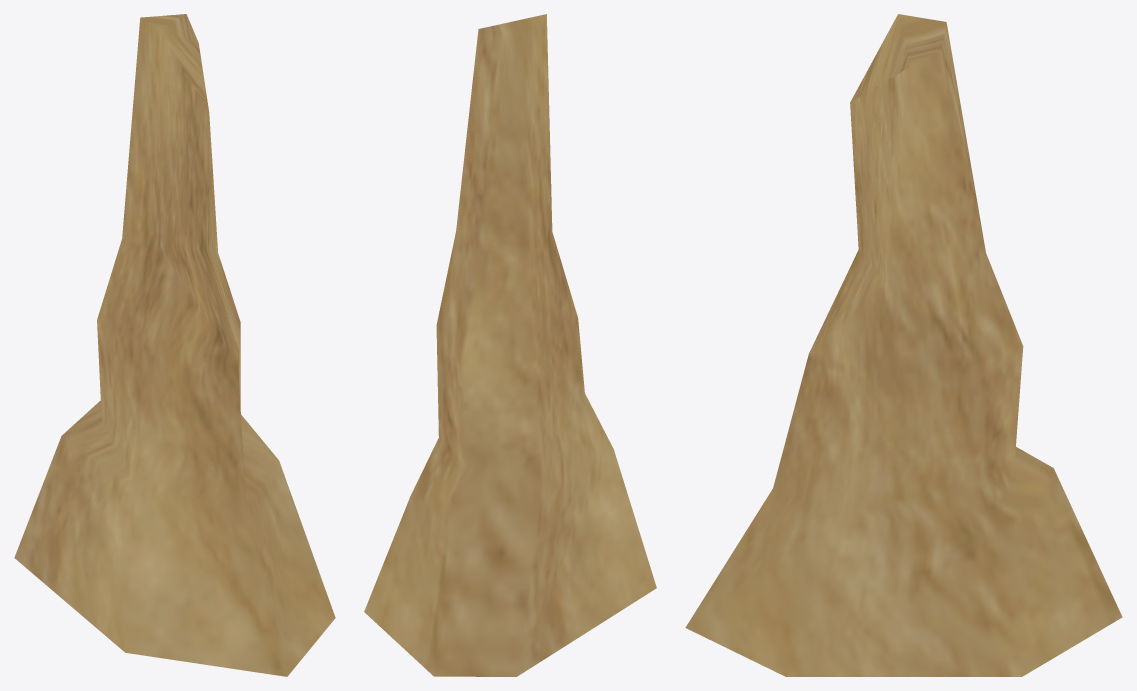
The model's file is rock_spire01.glb.
The picture shows the model from 3 angles, left to right: view 1: azimuth 30°, elevation 25°; view 2: azimuth 150°, elevation 25°; view 3: azimuth 270°, elevation 25°; orthographic projection. The views are drawn at different scales.
Parts seen in each view (by area): view 1: RR_Prop4; view 2: RR_Prop4; view 3: RR_Prop4.
Part boxes in pixels (x1=…): RR_Prop4: x1=14, y1=14, x2=335, y2=676; RR_Prop4: x1=364, y1=14, x2=656, y2=676; RR_Prop4: x1=685, y1=14, x2=1122, y2=676.
Bounding box in the file's own units: 5.54 × 15.84 × 10.44.
1 material, 1 textured.
